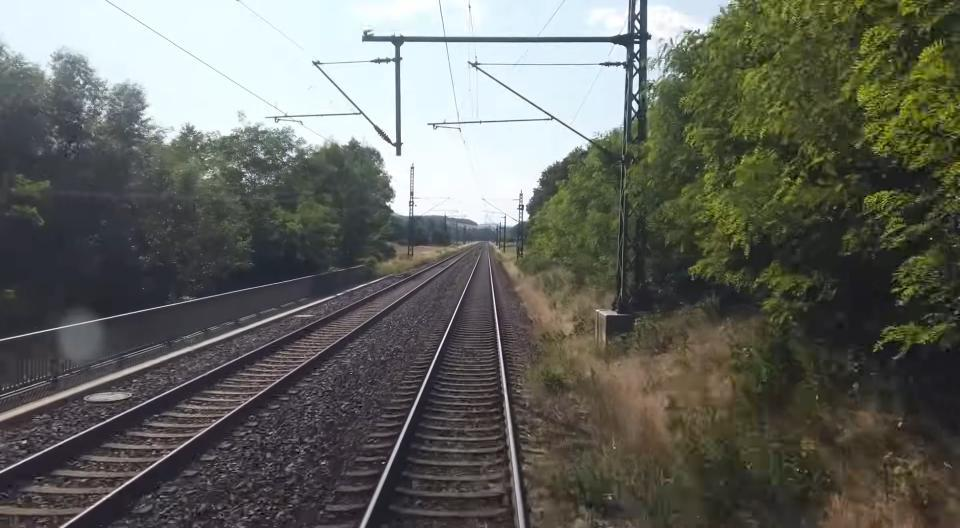Plant: (528, 339, 708, 528)
